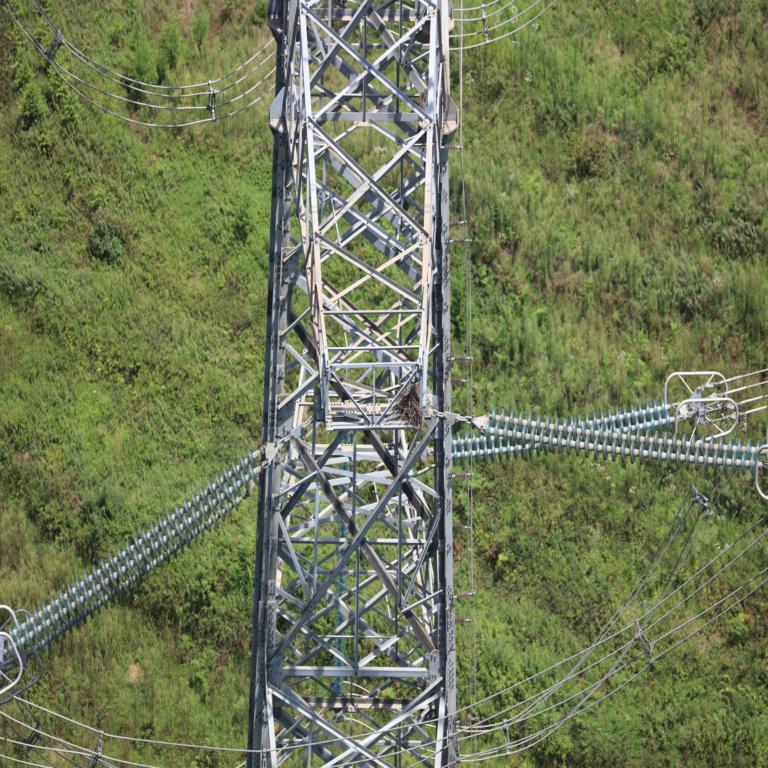nest: (398, 387, 418, 425)
